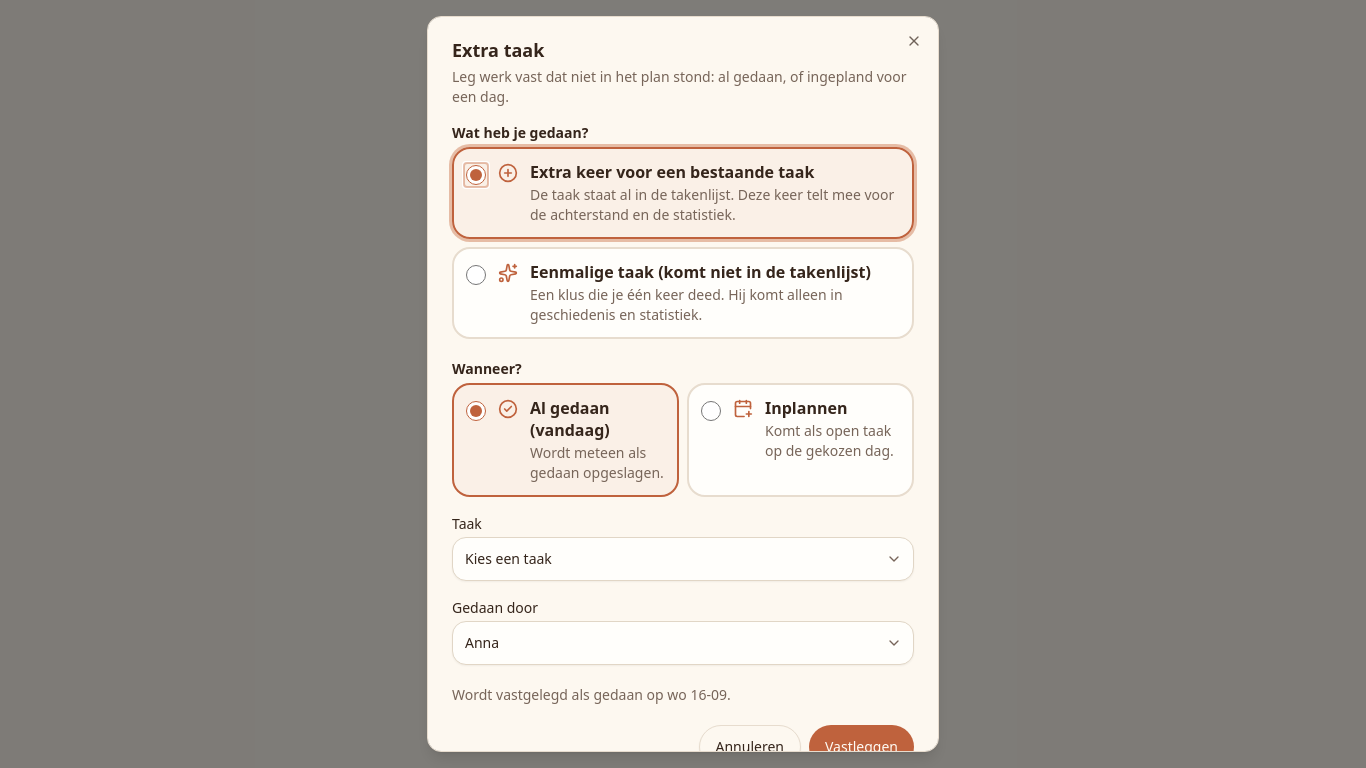
Scenario: RecordWorkDialog › offers the two choices as labelled radios, with the extra execution first
Expected: the radio button labelled "Extra keer voor een bestaande taak" is checked, top-left (466, 165), bottom-right (486, 185)
Expected: the dropdown labelled "Taak" is shown, top-left (452, 537), bottom-right (914, 581)
Click the radio button labelled "Eenmalige taak (komt niet in de takenlijst)": [476, 275] box top-left (466, 265), bottom-right (486, 285)
(page scrolled)
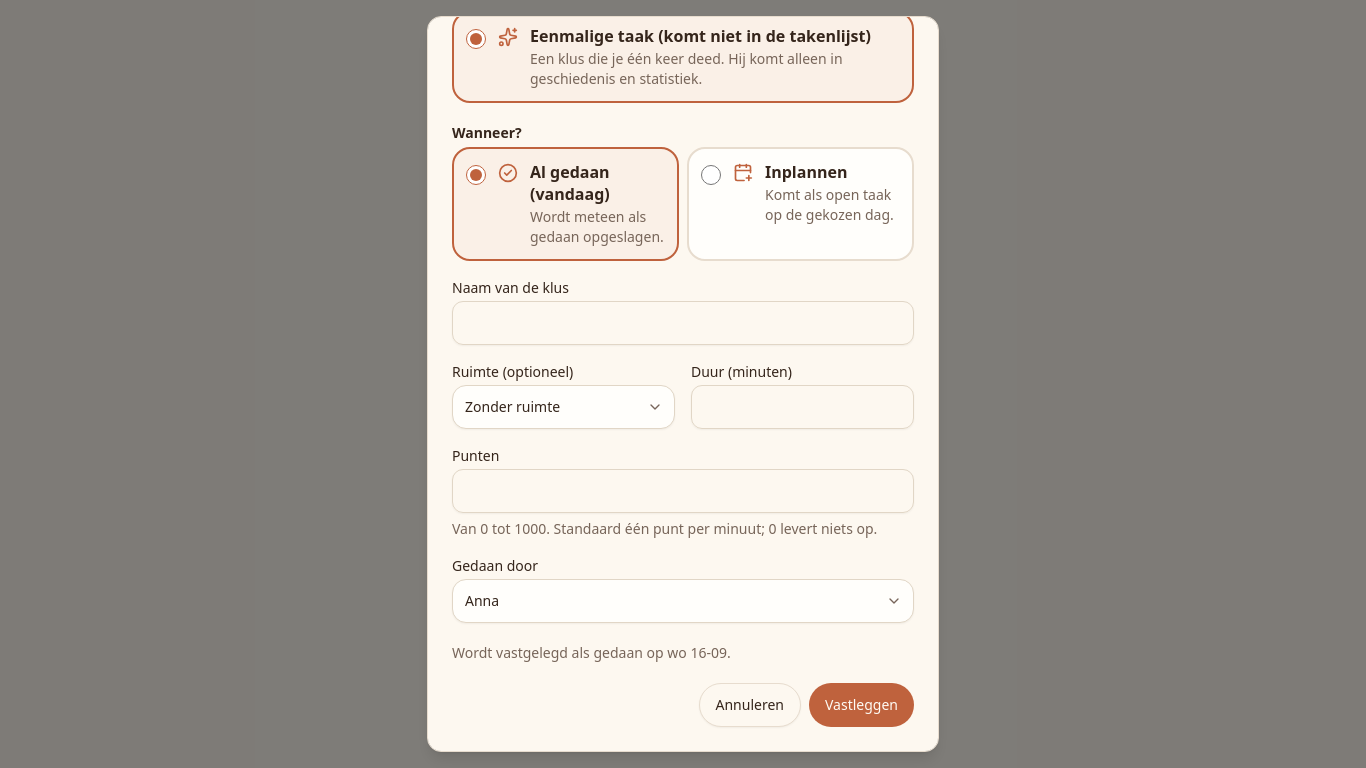
Expected: the field labelled "Naam van de klus" is shown, top-left (452, 301), bottom-right (914, 345)
Expected: the dropdown labelled "Ruimte (optioneel)" is shown, top-left (452, 385), bottom-right (675, 429)
Expected: the number field labelled "Duur (minuten)" is shown, top-left (691, 385), bottom-right (914, 429)
